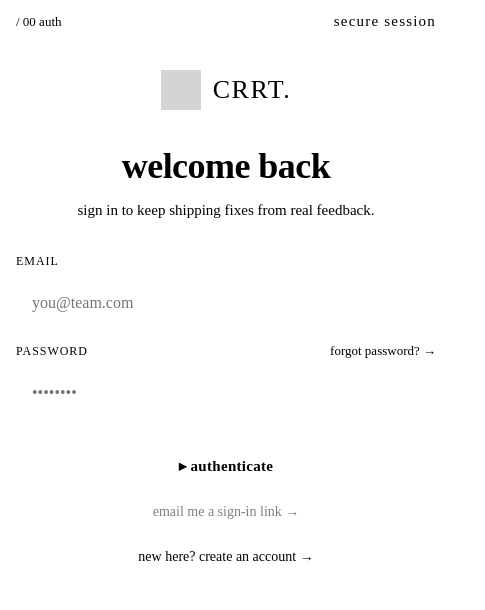
Test: LoginPage invitation continuation › shows specific and fallback magic-link failures
Type "guest@example.com" into the field labelled "email" at (242,303), box [16,279,468,327]
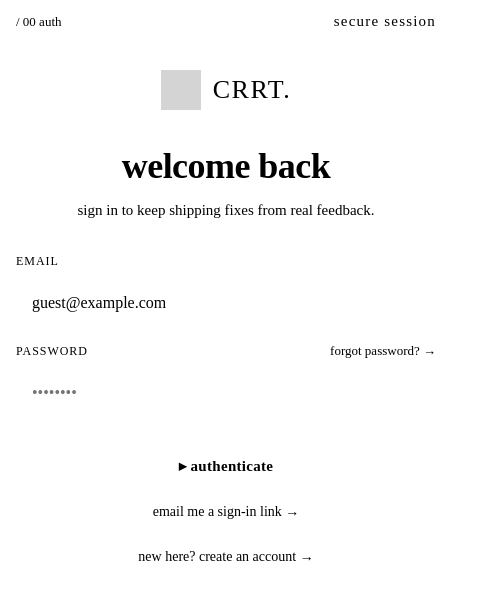
Click the button "email me a sign-in link →" at (226,512), box [147,503,305,521]
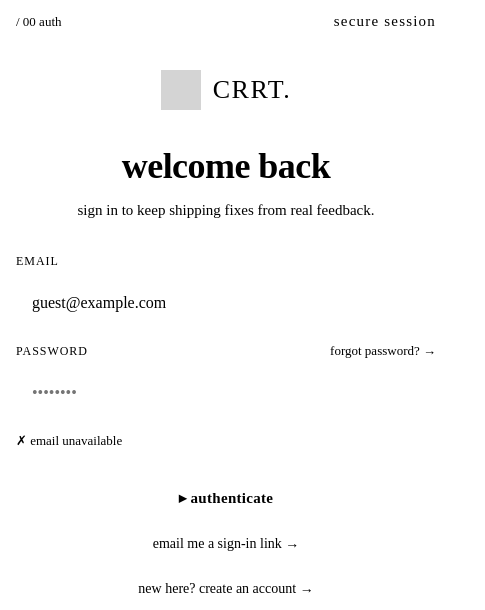
expect the text "✗ email unavailable" is shown: met, box [16,433,122,448]
Click the button "email me a sign-in link →" at (226,544), box [147,535,305,553]
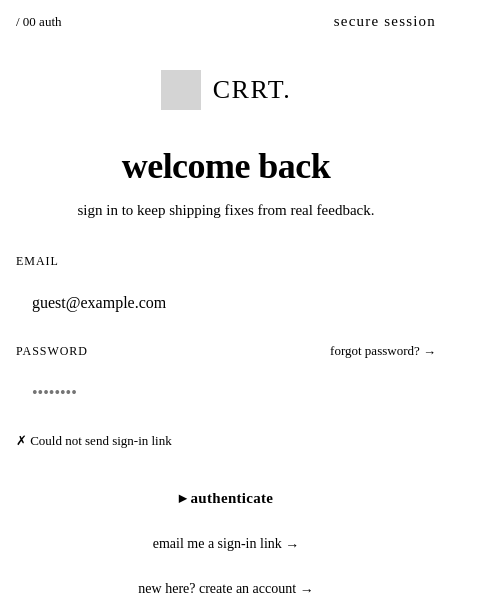
expect the text "✗ Could not send sign-in link" is shown: met, box [16,433,172,448]
